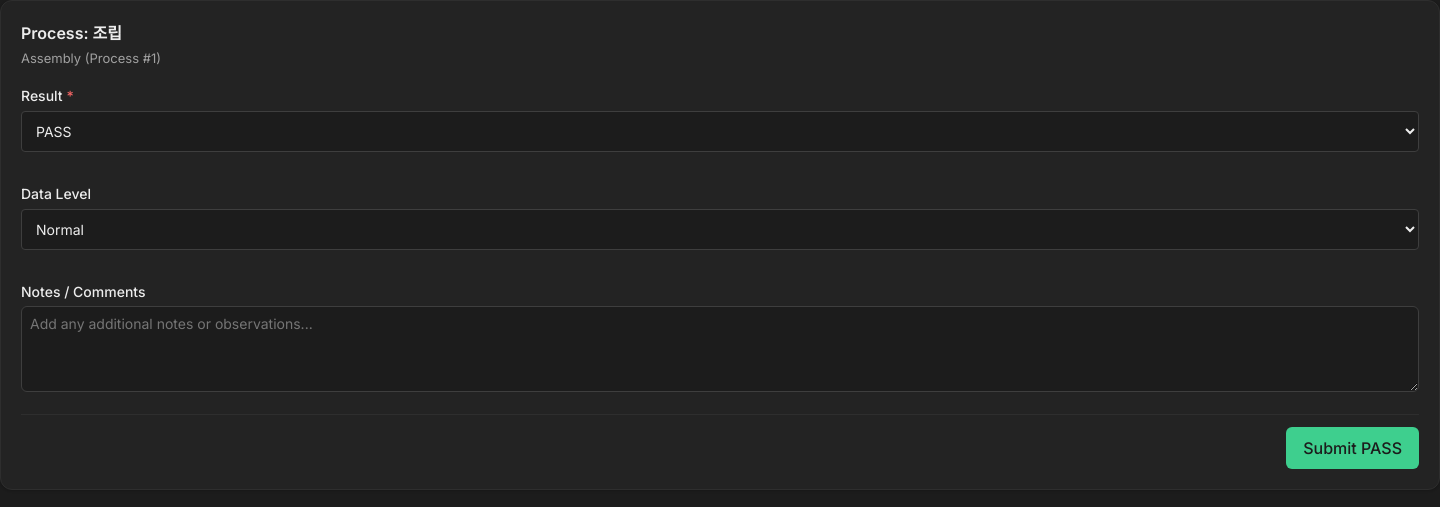
MeasurementForm › shows correct button text for REWORK result
This screenshot has width=1440, height=507.
Select "REWORK" in the dropdown labelled "Result*" at (720, 131), box [21,110,1419,152]
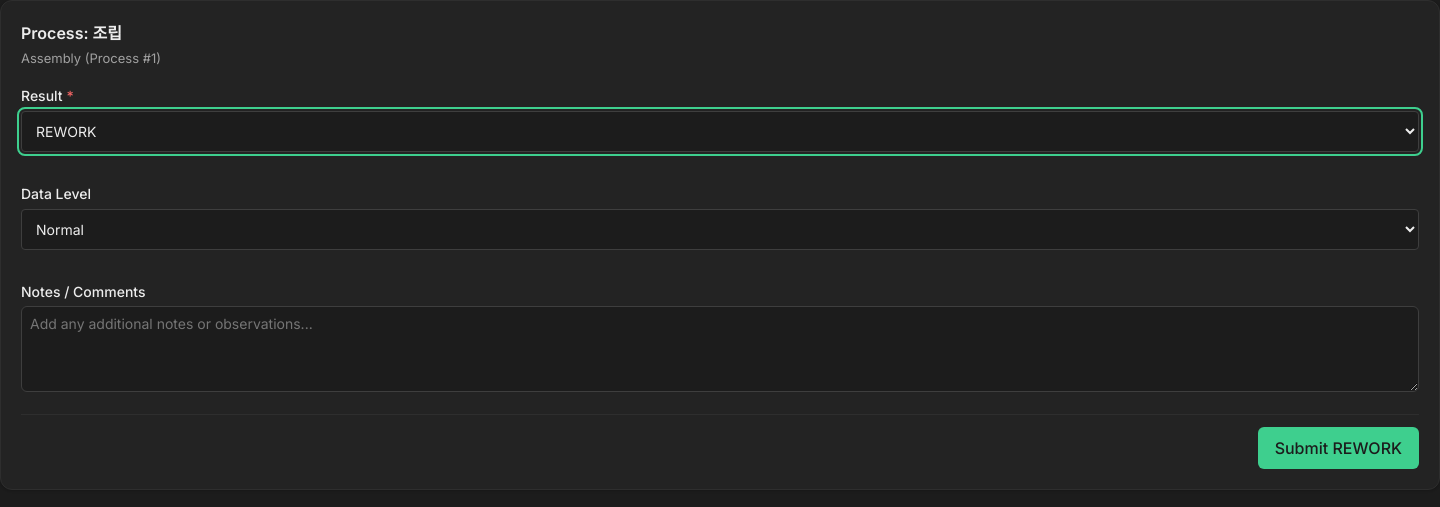
Result: the button "Submit REWORK" is shown at [1258,426,1419,468]
